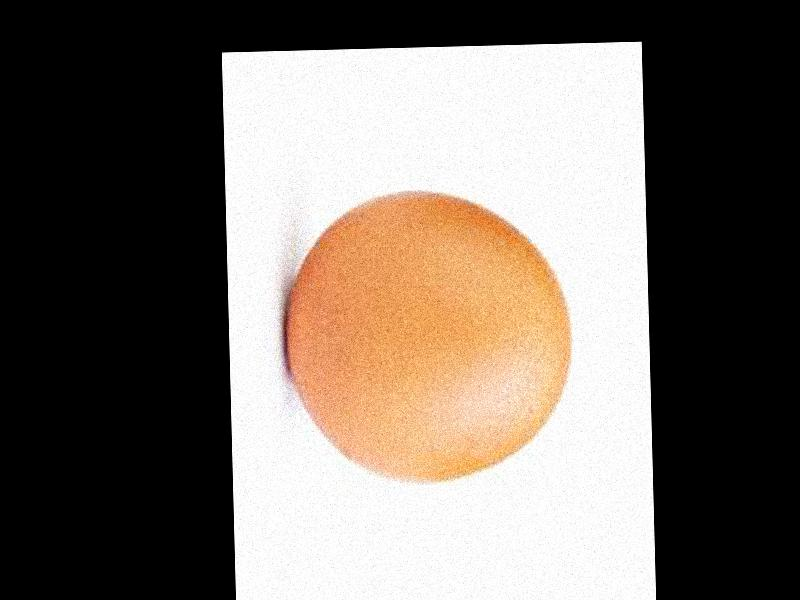Eggs: (284, 189, 570, 484)
